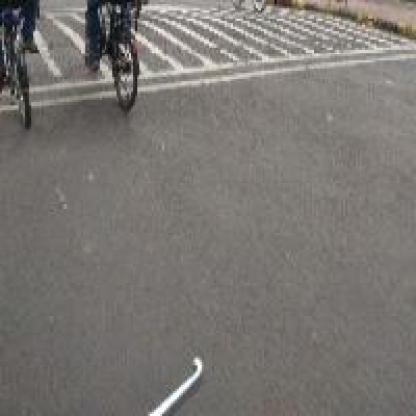Speed Bump: (146, 0, 228, 100)
